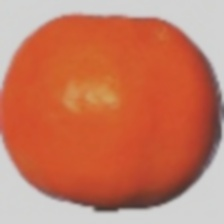tangerine: (26, 62, 166, 202)
